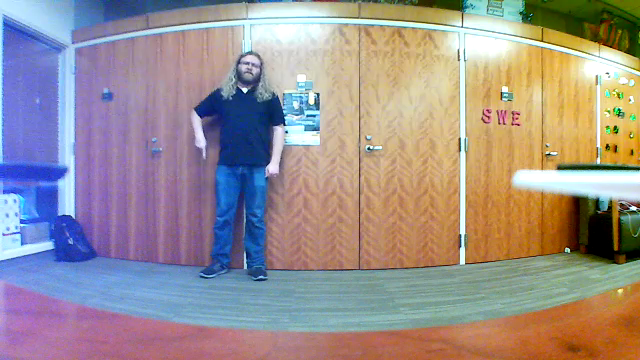down: (189, 129, 211, 164)
